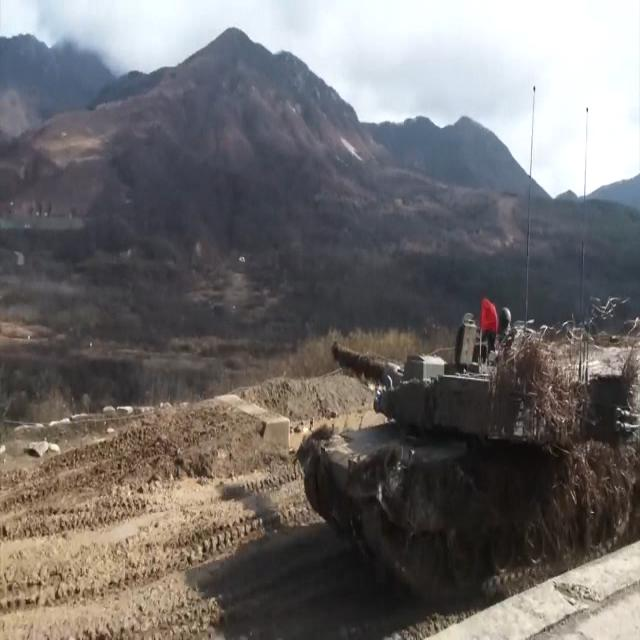korea tank: (291, 292, 640, 606)
